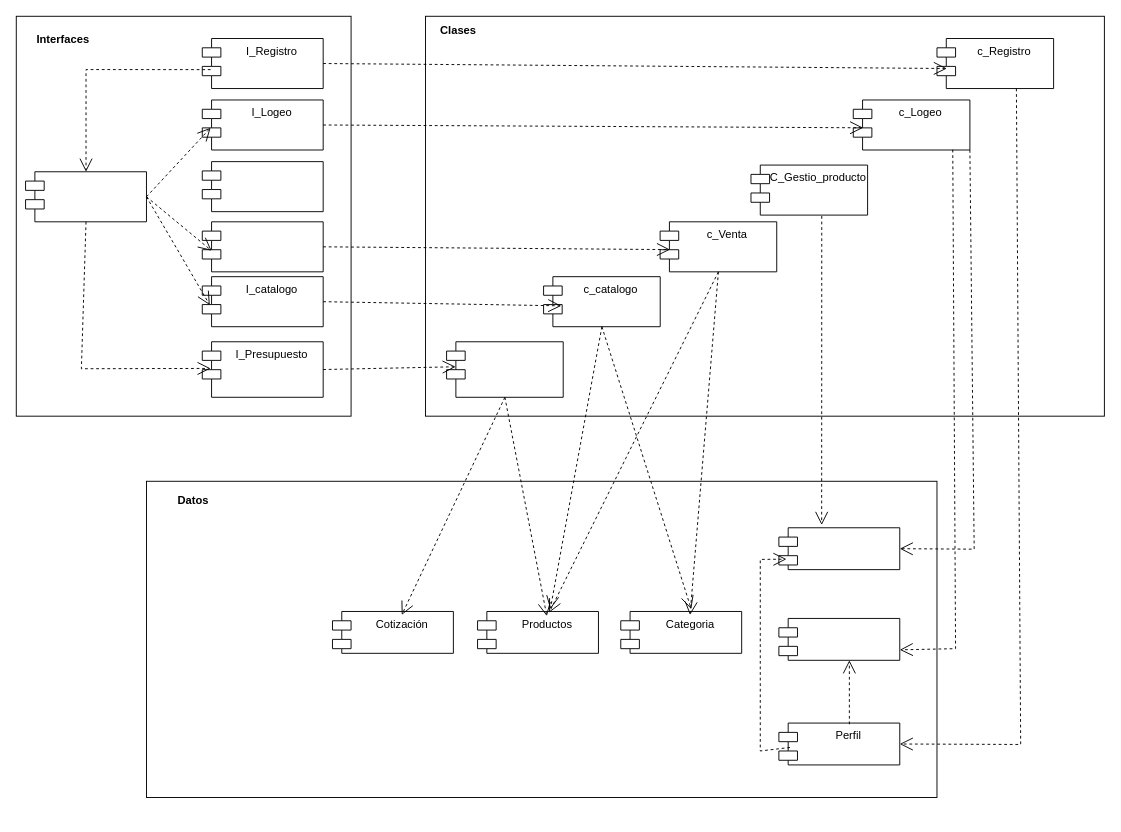
This 1121x832 diagram has some shape labels left out. Each missing label, with the centre of its shape:
"Administrador Perfil" goes at pixel 839 548.
"c_Presupuesto" goes at pixel 504 369.
"I_Gestionar producto" goes at pixel 262 186.
"I_modulo_principal" goes at pixel 85 196.
"I_Venta" goes at pixel 262 246.
"Usuario perfil" goes at pixel 839 639.
